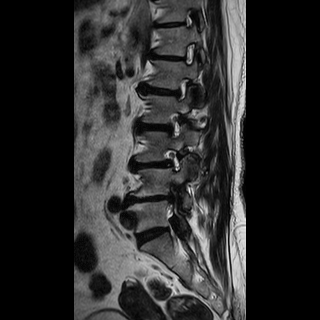LFS0: (163, 107, 188, 143), (167, 71, 193, 105), (159, 142, 184, 174)
